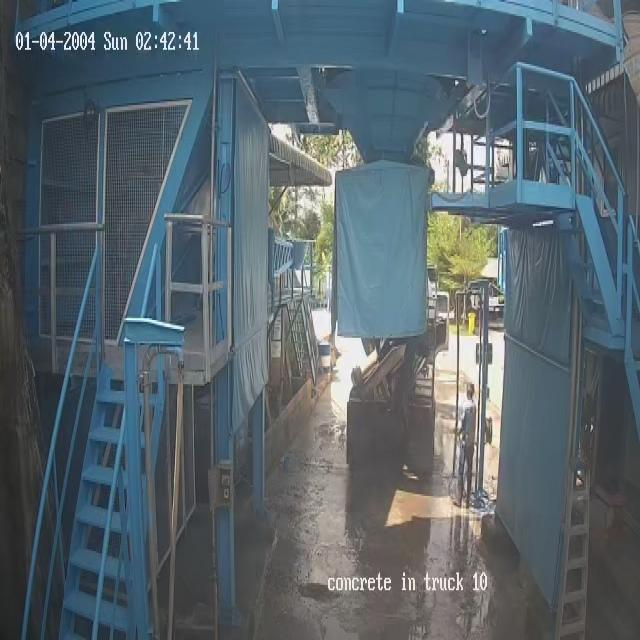cement_mixer_truck: (334, 259, 453, 480)
